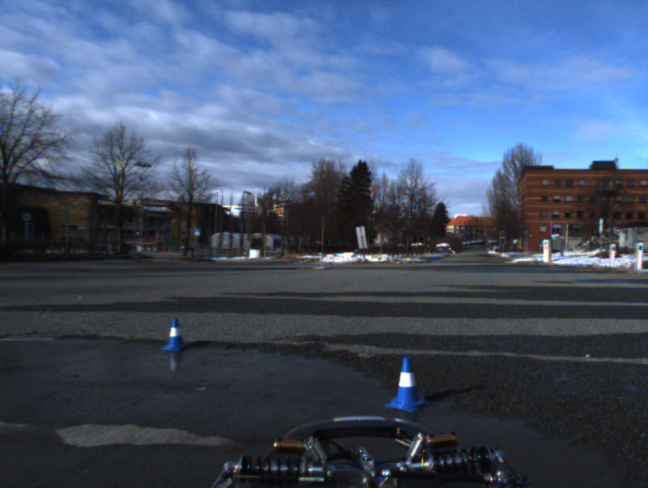cone-small-blue: (385, 356, 431, 412), (161, 318, 188, 351)
